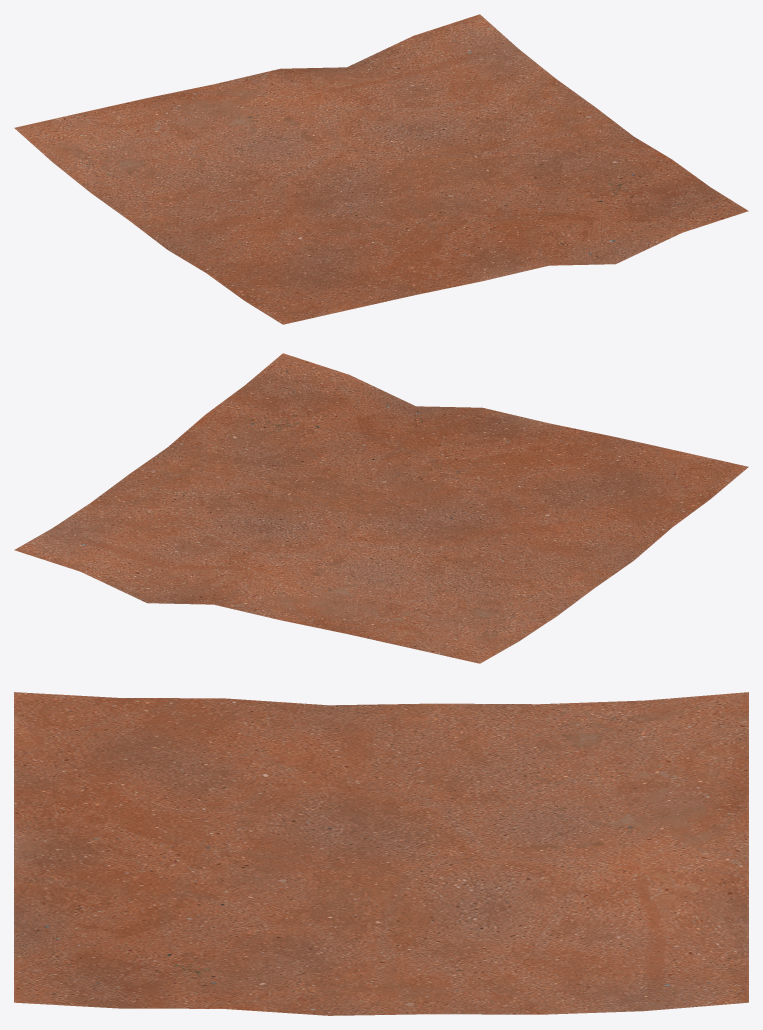
File: Ground_flat_03_M03_LOD2.fbx
3 renders of one model, top to bottom at view 1: azimuth 30°, elevation 25°; view 2: azimuth 150°, elevation 25°; view 3: azimuth 270°, elevation 25°, orthographic. The views are drawn at different scales.
Parts seen in each view (by area): view 1: Ground_flat_03_M03_LOD2; view 2: Ground_flat_03_M03_LOD2; view 3: Ground_flat_03_M03_LOD2.
Part boxes in pixels (box(x1,y1,x2,y2)): Ground_flat_03_M03_LOD2: box(14, 14, 748, 324); Ground_flat_03_M03_LOD2: box(14, 353, 748, 663); Ground_flat_03_M03_LOD2: box(14, 692, 748, 1015).
Size of the model in its own units: 2000 by 84.71 by 2000.
